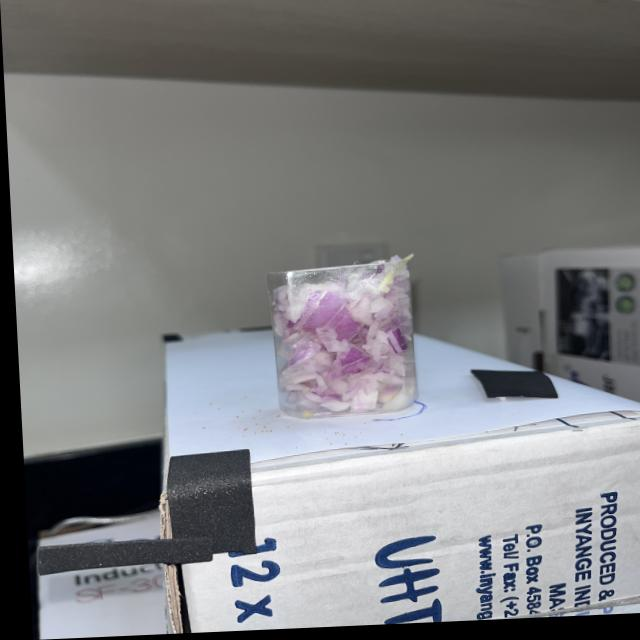sliced_onions: (269, 261, 415, 423)
